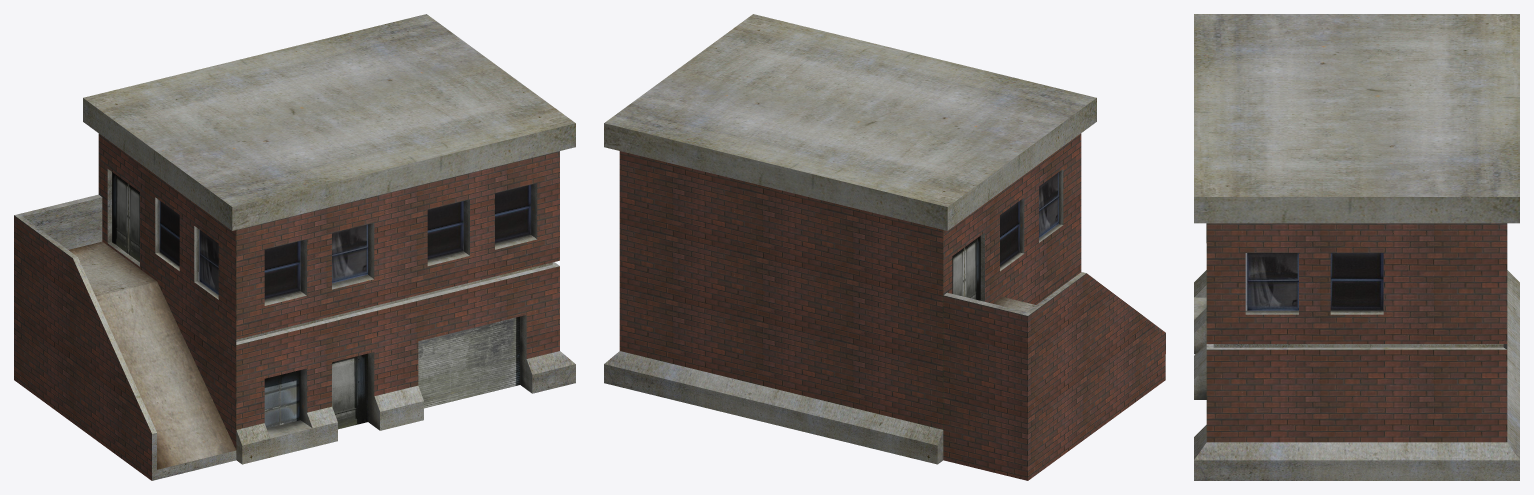
The model's file is house1.gltf.
3 renders of one model, left to right at view 1: azimuth 30°, elevation 25°; view 2: azimuth 150°, elevation 25°; view 3: azimuth 270°, elevation 25°, orthographic. The views are drawn at different scales.
Visible parts, largest first — view 1: house2; view 2: house2; view 3: house2.
Boxes of the visible parts, x1,y1,x2,y2 form: house2: (14, 14, 575, 480); house2: (604, 14, 1165, 480); house2: (1194, 14, 1519, 480).
Bounding box in the file's own units: 584 × 347 × 361.
1 material, 1 textured.
